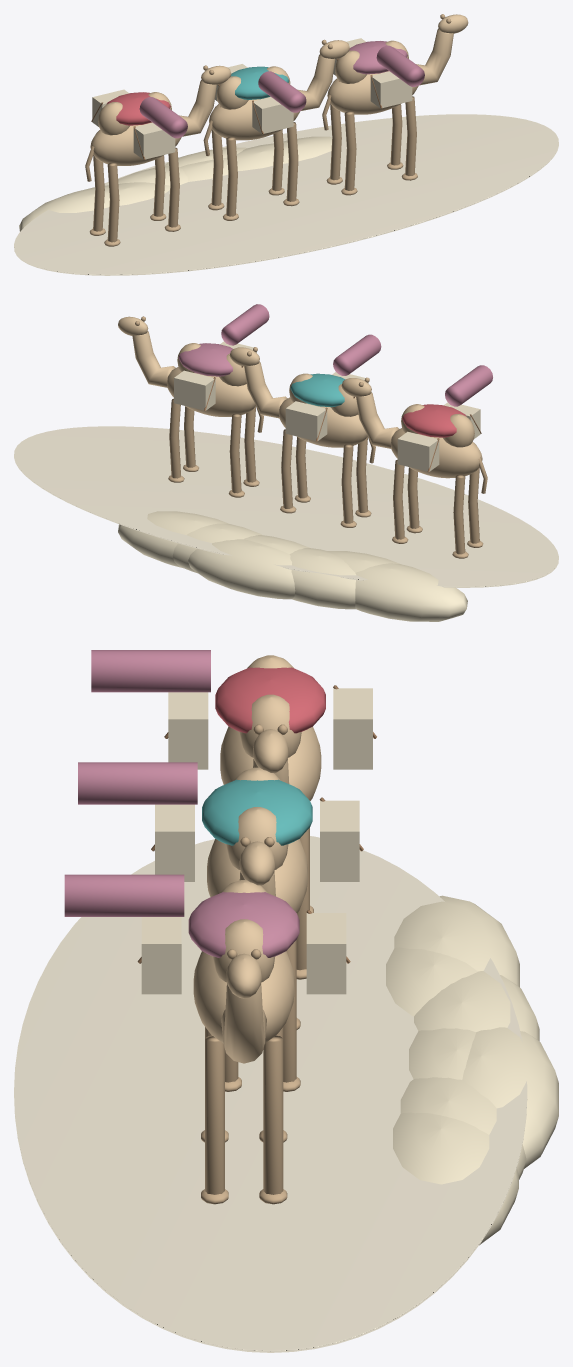
Rendered from keruen.glb.
The picture shows the model from 3 angles, top to bottom: view 1: azimuth 30°, elevation 25°; view 2: azimuth 150°, elevation 25°; view 3: azimuth 270°, elevation 25°; orthographic projection. The views are drawn at different scales.
Parts seen in each view (by area): view 1: desert, leg (×12), dune (×7), camel-body (×3), pack (×4), roll (×3), neck (×3), blanket (×3), hump (×3), head (×3); view 2: desert, dune (×7), leg (×12), camel-body (×3), pack (×4), blanket (×3), neck (×3), roll (×3), hump (×3), head (×3); view 3: desert, dune (×7), pack (×6), roll (×3), blanket (×3), camel-body (×3), leg (×4), hump (×3), head (×3), neck.
Part boxes in pixels (x1,y1,x2,y2): desert: (14, 114, 558, 275); leg (×12): (93, 96, 416, 242); dune (×7): (19, 136, 332, 231); camel-body (×3): (90, 71, 418, 165); pack (×4): (92, 71, 412, 159); roll (×3): (139, 45, 424, 138); neck (×3): (179, 28, 453, 136); blanket (×3): (106, 41, 407, 125); hump (×3): (98, 50, 366, 135); head (×3): (201, 14, 468, 84); desert: (14, 426, 558, 587); dune (×7): (118, 511, 467, 621); leg (×12): (169, 398, 479, 554); camel-body (×3): (167, 367, 482, 478); pack (×4): (174, 370, 480, 471); blanket (×3): (178, 343, 466, 437); neck (×3): (132, 331, 399, 448); roll (×3): (221, 304, 492, 406); hump (×3): (219, 353, 474, 447); head (×3): (118, 316, 371, 396); desert: (14, 836, 527, 1352); dune (×7): (386, 895, 558, 1245); pack (×6): (141, 688, 372, 994); roll (×3): (64, 650, 210, 916); blanket (×3): (188, 667, 325, 957); camel-body (×3): (193, 726, 321, 1043); leg (×4): (205, 828, 309, 1194); hump (×3): (213, 694, 301, 982); head (×3): (226, 729, 288, 998); neck: (221, 983, 266, 1063).
Size of the model in its own units: 9.2 by 3.05 by 4.1.
